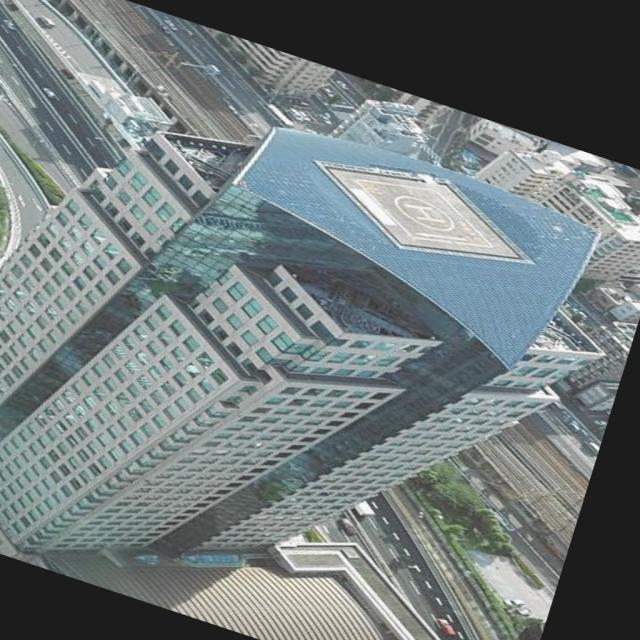helipad: (390, 192, 456, 232)
